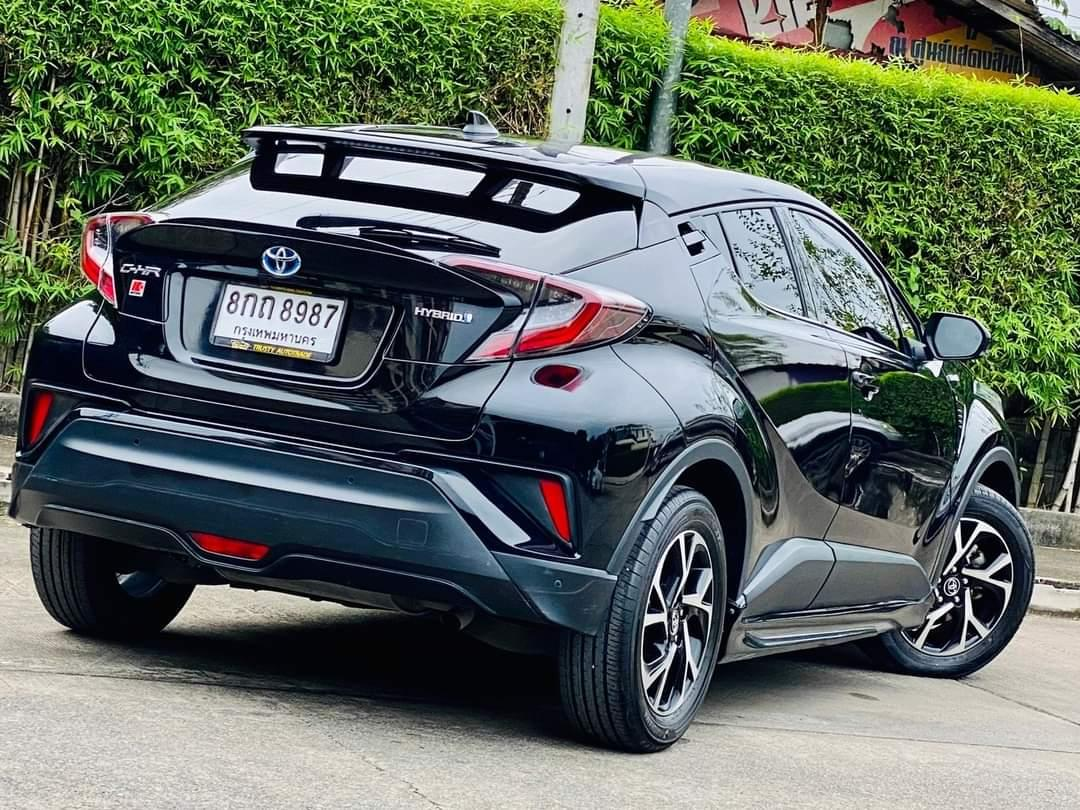license-plate: (205, 270, 349, 368)
